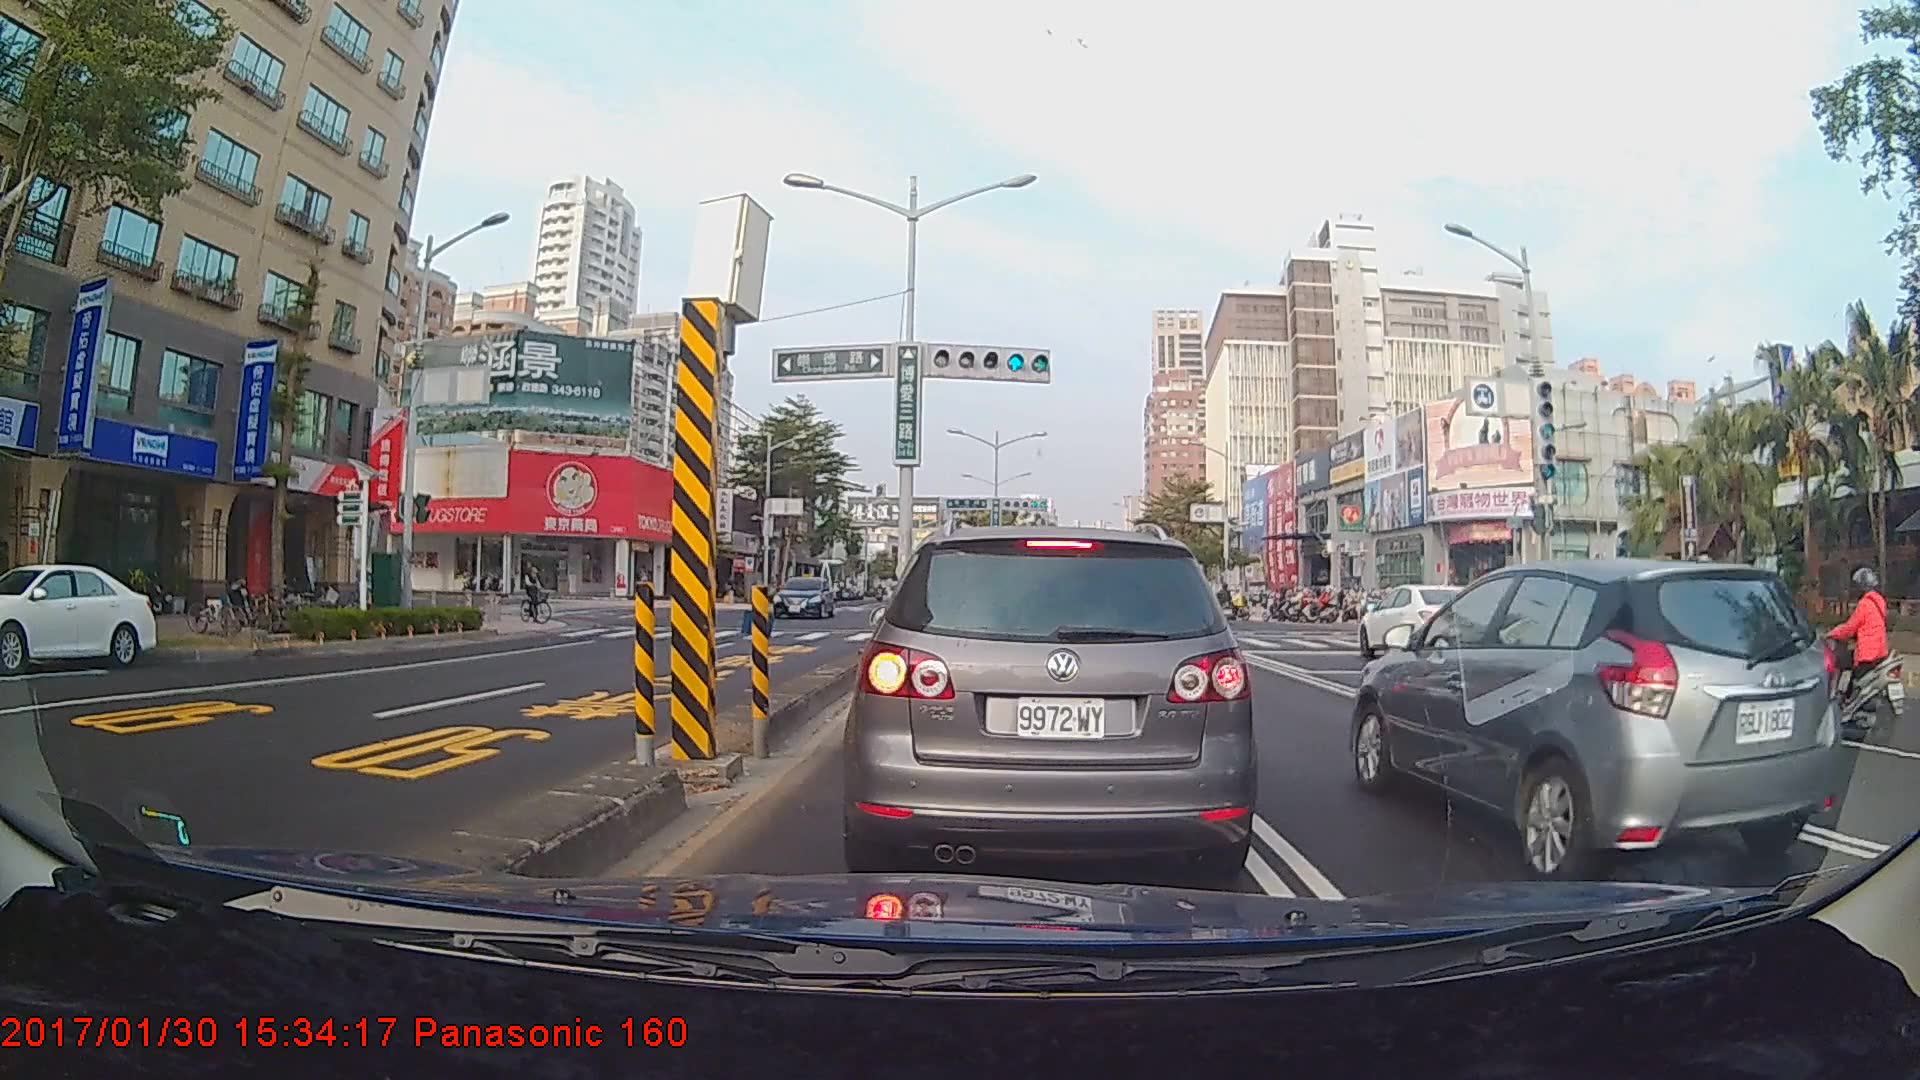rider: (1810, 561, 1910, 742), (518, 559, 561, 629)
vehicle: (1350, 558, 1845, 884), (852, 522, 1252, 876), (0, 561, 157, 671), (1354, 584, 1492, 668), (771, 574, 836, 619)
